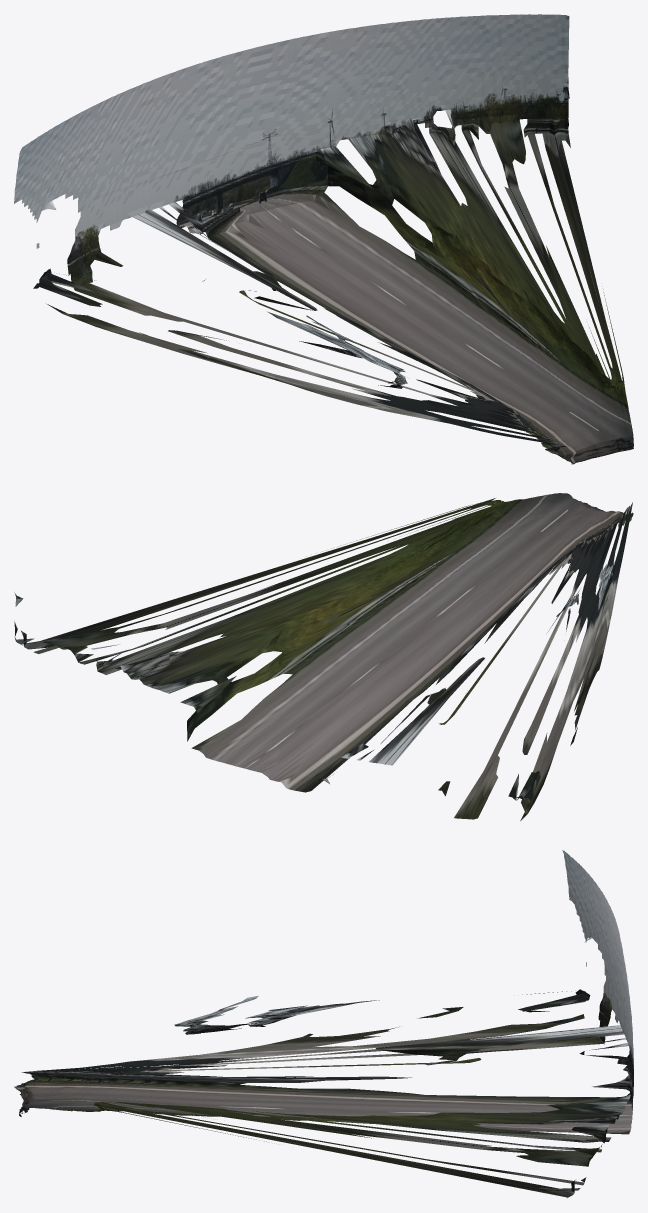
3 views of the same model, one above another, from view 1: azimuth 30°, elevation 25°; view 2: azimuth 150°, elevation 25°; view 3: azimuth 270°, elevation 25° (orthographic). The views are drawn at different scales.
Visible parts, largest first — view 1: defaultobject; view 2: defaultobject; view 3: defaultobject.
Part boxes in pixels (x1,y1,x2,y2): defaultobject: [14, 14, 633, 464]; defaultobject: [14, 493, 633, 820]; defaultobject: [14, 850, 633, 1197].
Size of the model in its own units: 41.02 by 13.3 by 44.73.
Materials: 1 (1 with a texture image).
